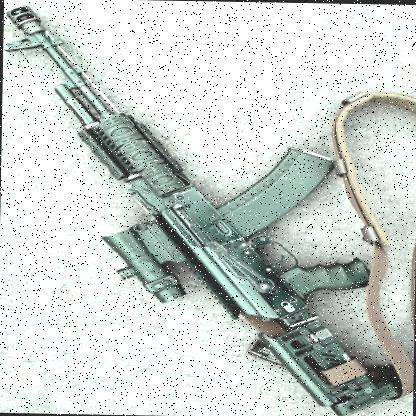rifle: (5, 29, 416, 416)
